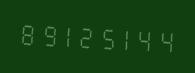eight: (17, 15, 36, 49)
five: (97, 20, 116, 53)
four: (137, 22, 156, 56), (157, 23, 176, 57)
nine: (37, 16, 56, 50)
one: (57, 17, 76, 51), (117, 21, 136, 55)
two: (77, 18, 96, 52)
